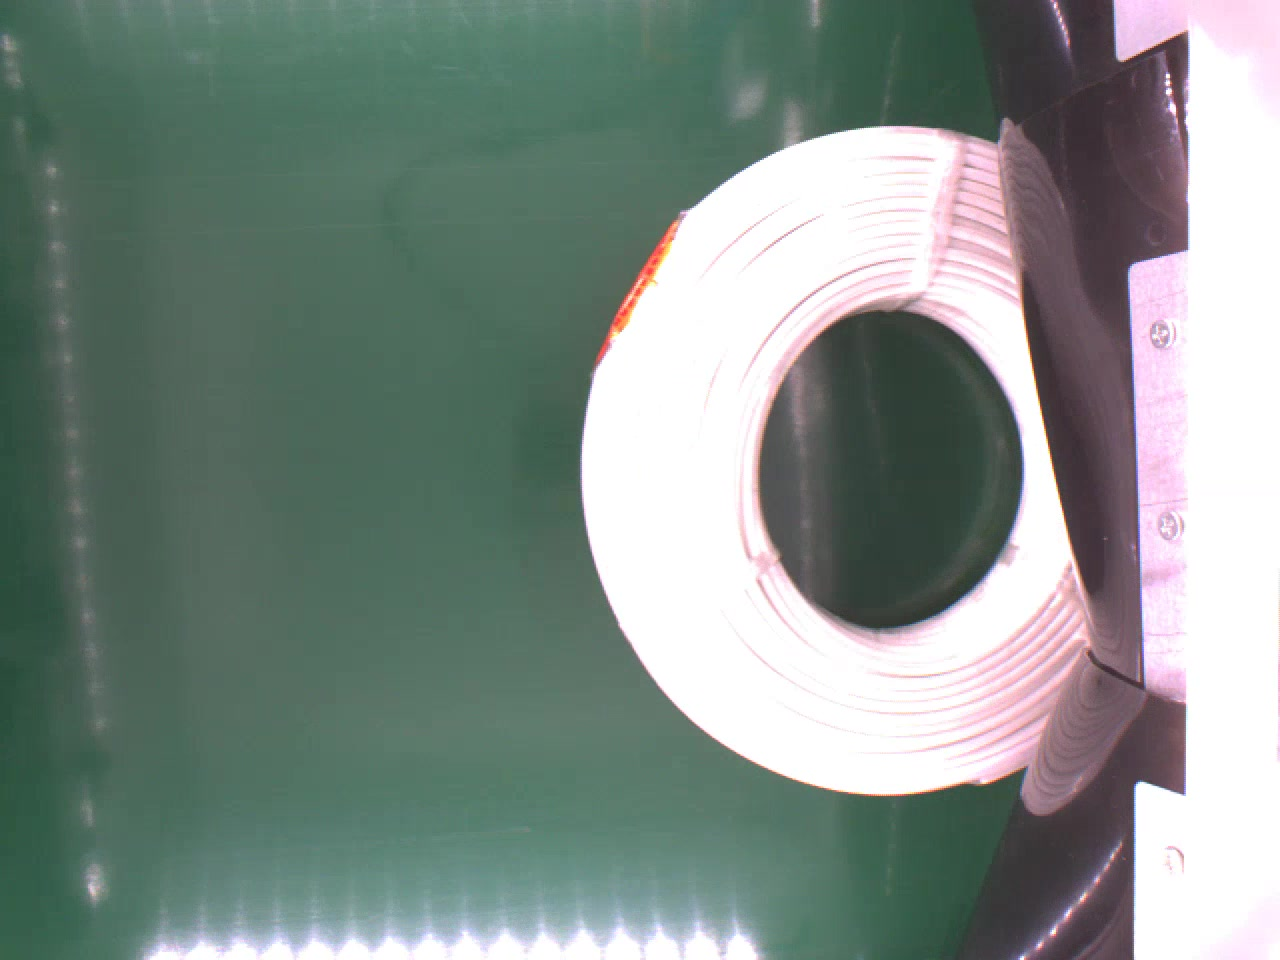white: (582, 119, 1097, 802)
